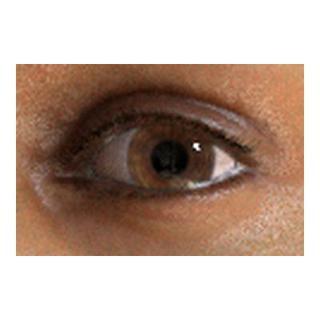pupil: (152, 141, 187, 176)
